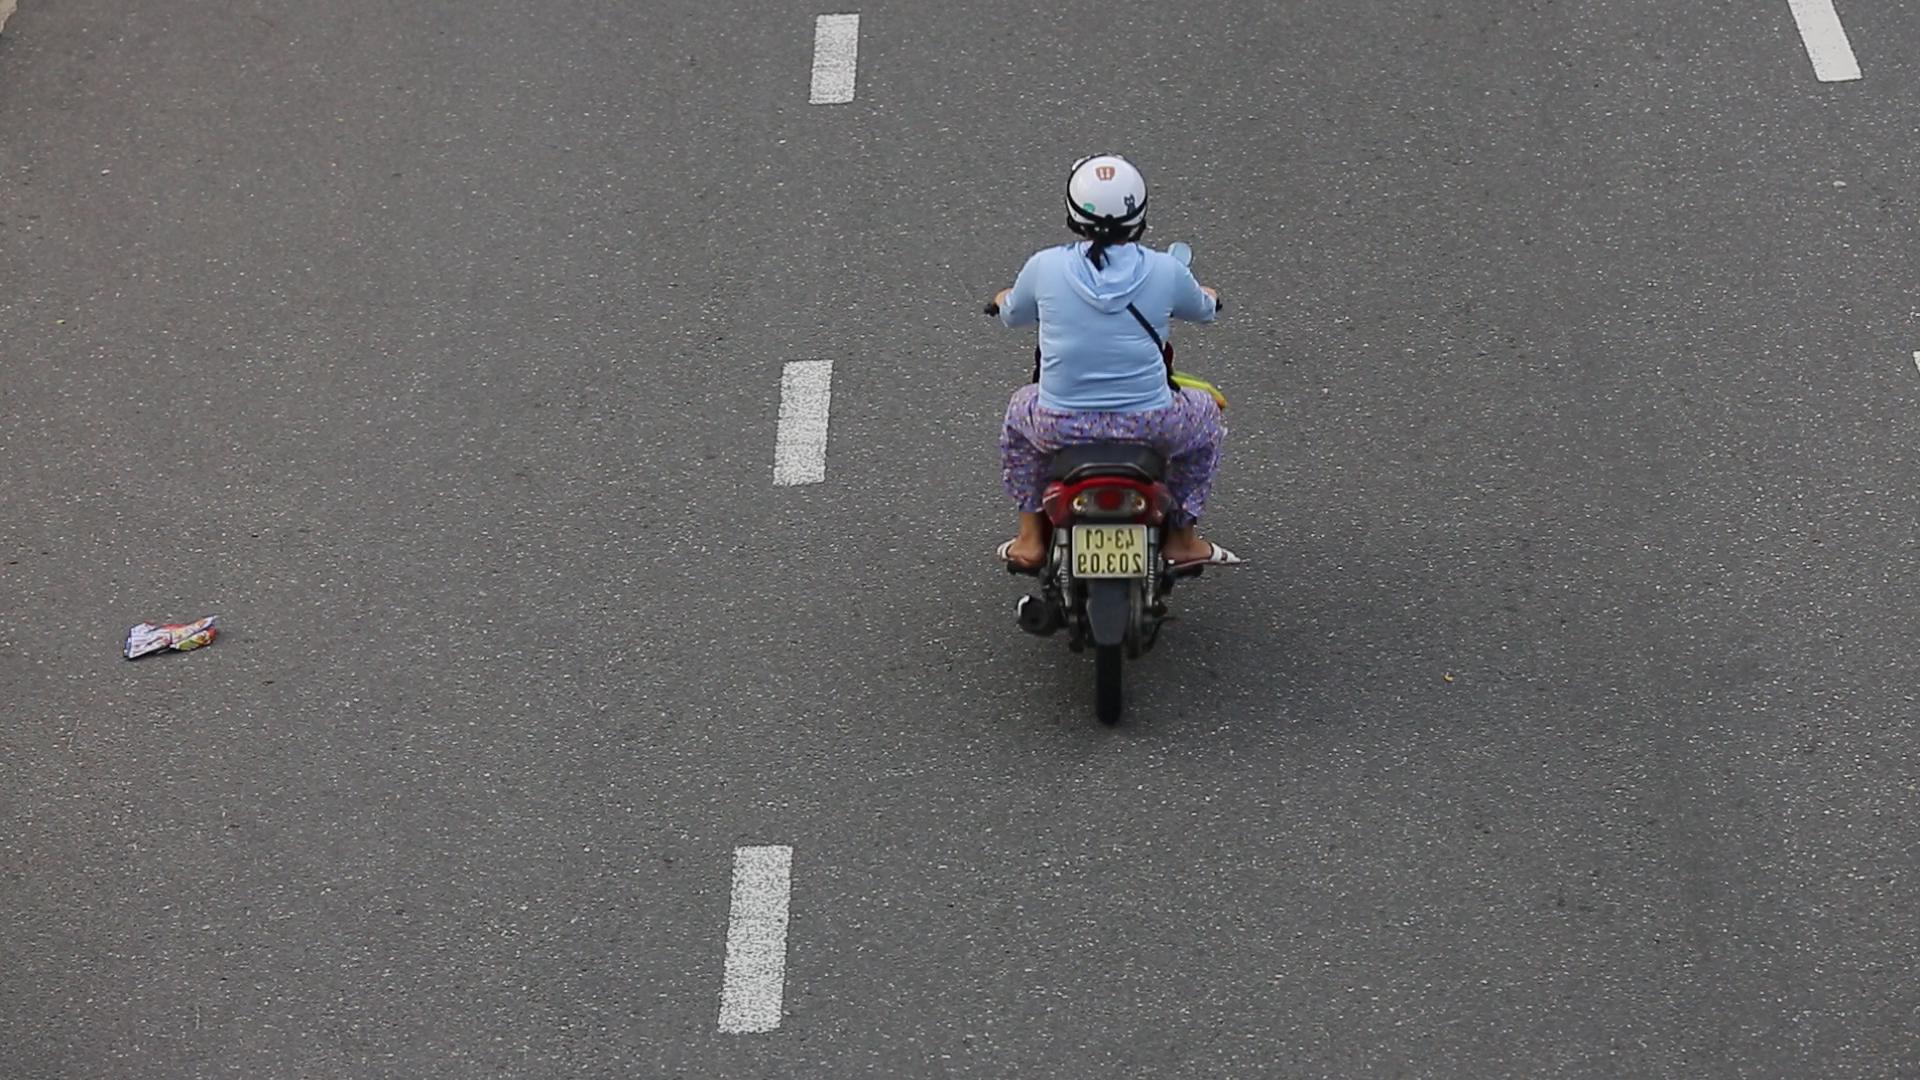motobike: (973, 138, 1237, 736)
